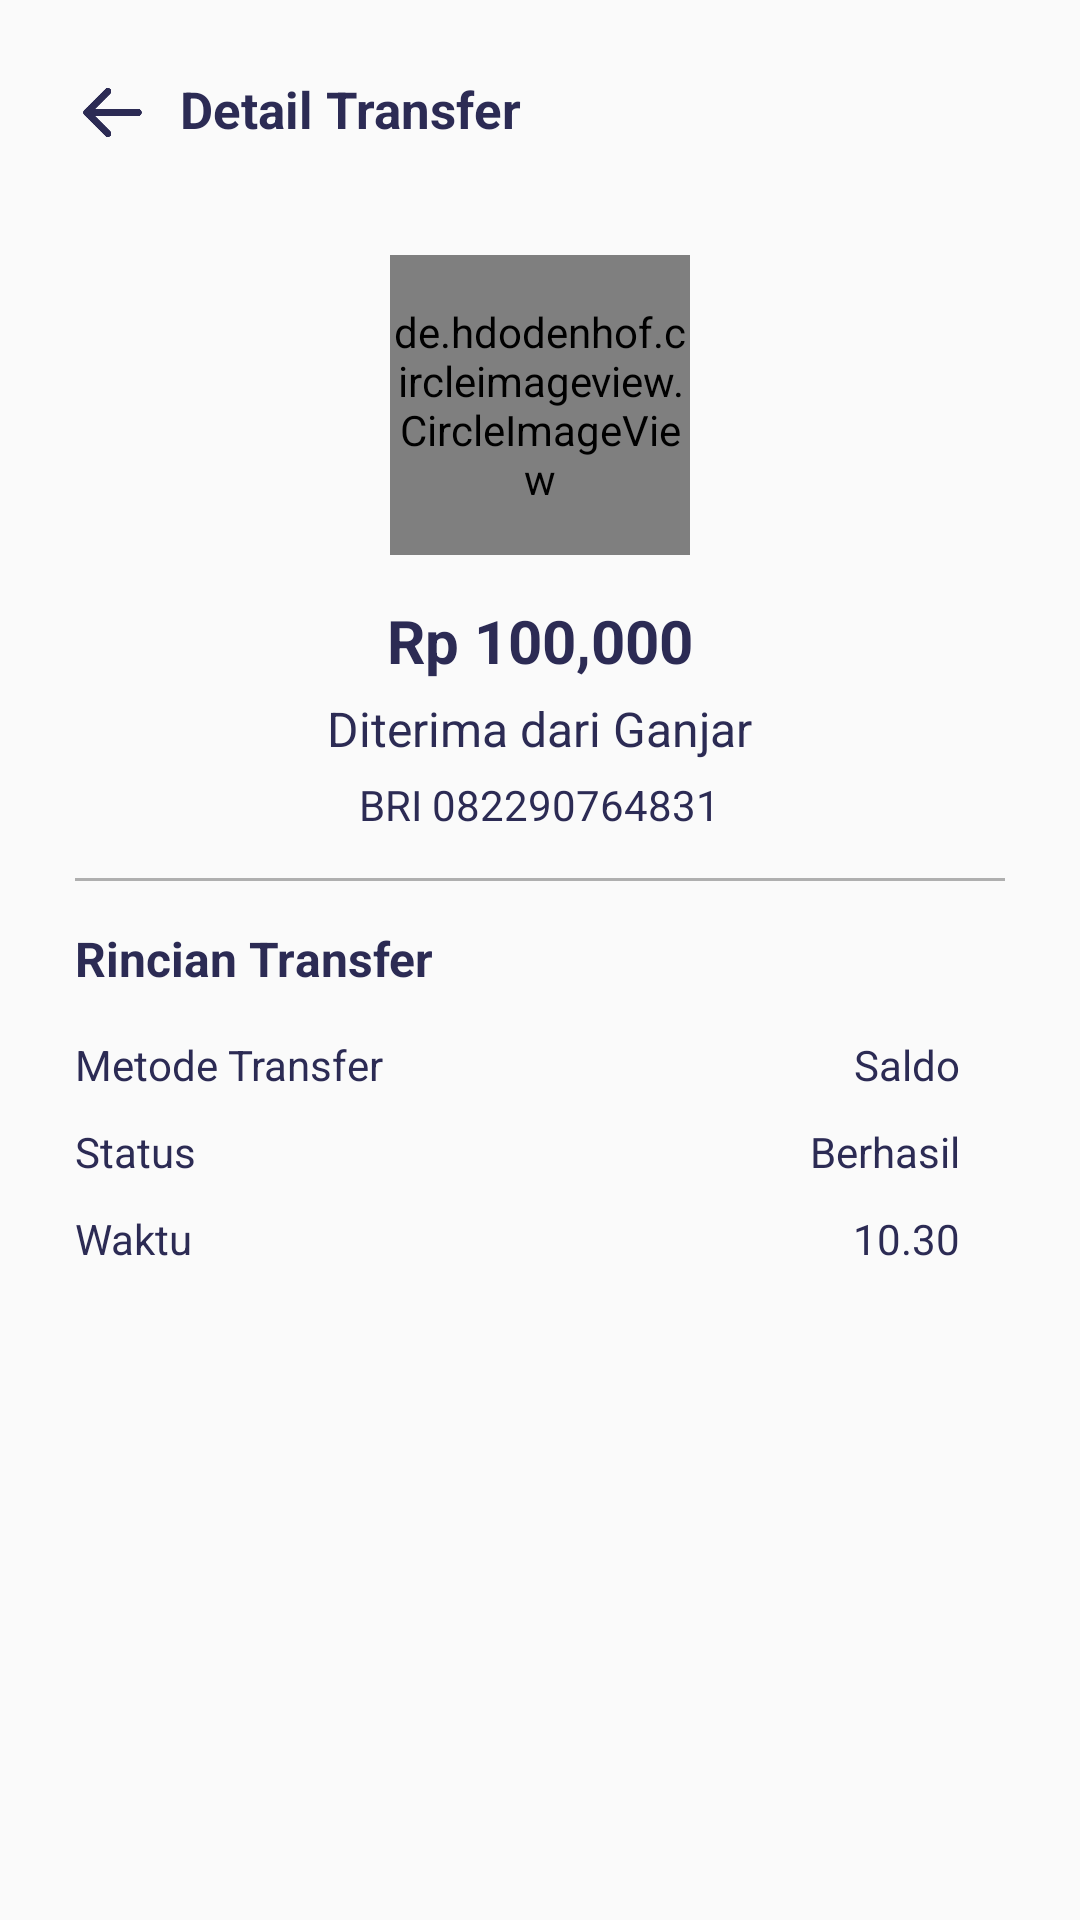

Named icons in this screenshot (1080×1920) and their bounding boxes, (x1, y1, x2, y2):
arrow back: (83, 88, 142, 137)
